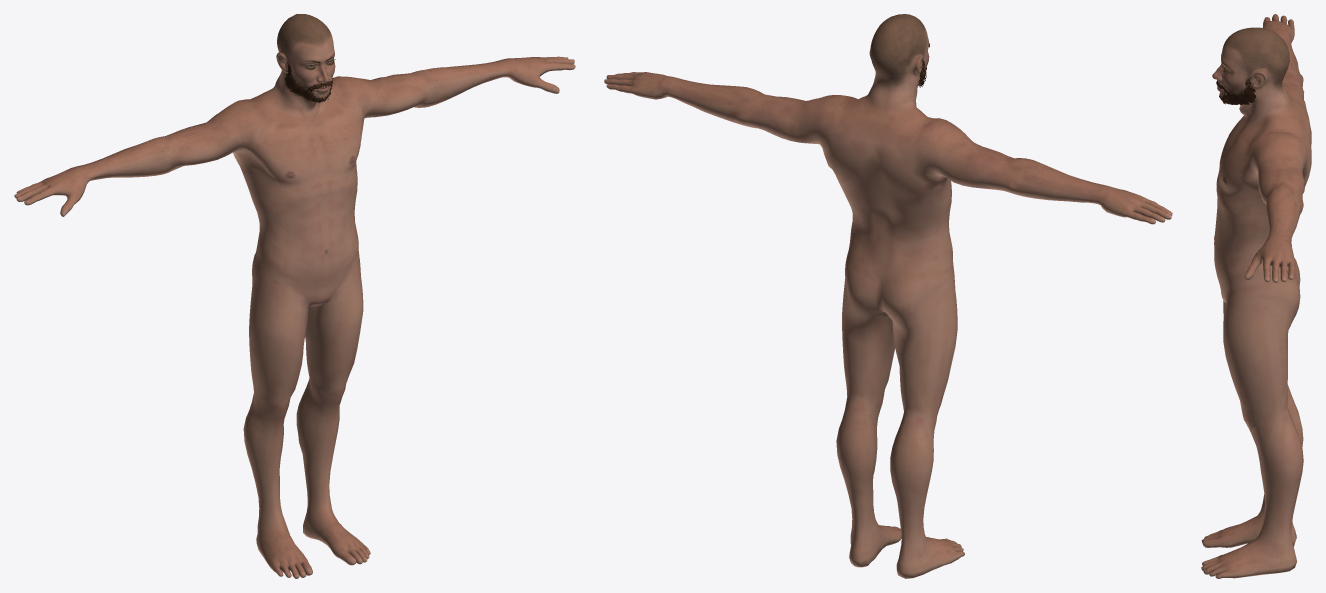
The model's file is ottomansoldier1.obj.
3 views of the same model, side by side, from view 1: azimuth 30°, elevation 25°; view 2: azimuth 150°, elevation 25°; view 3: azimuth 270°, elevation 25° (orthographic). The views are drawn at different scales.
Parts seen in each view (by area): view 1: Body; view 2: Body; view 3: Body, Beards.
Boxes of the visible parts, x1,y1,x2,y2 form: Body: (14,14,575,578); Body: (604,14,1172,578); Body: (1201,14,1311,578); Beards: (1219,76,1255,105).
Bounding box in the file's own units: 194 × 178 × 33.74.
Materials: 2 (2 with a texture image).
